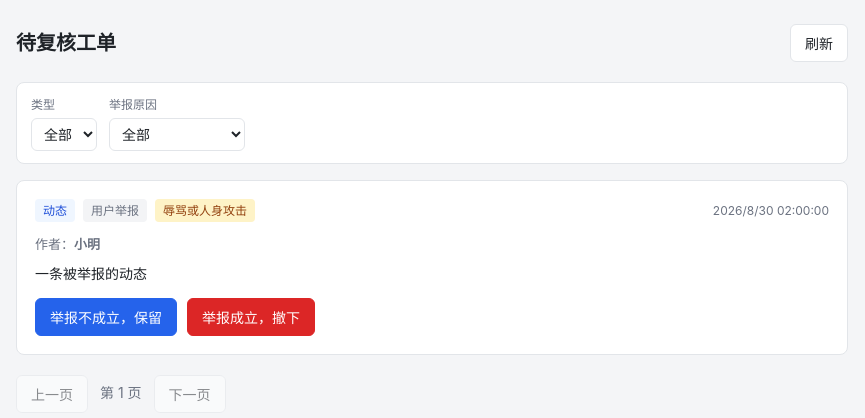
Scenario: 工单列表页 › 工单已被处理时提示并刷新列表
Click the button "举报不成立，保留". click: [106, 317]
box: x1=35 y1=298 x2=177 y2=336
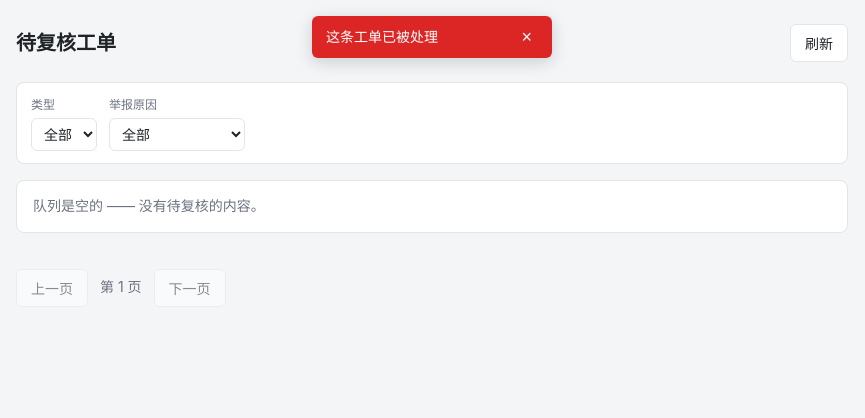
Expected: the text "这条工单已被处理" is shown, x1=326 y1=26 x2=438 y2=48
